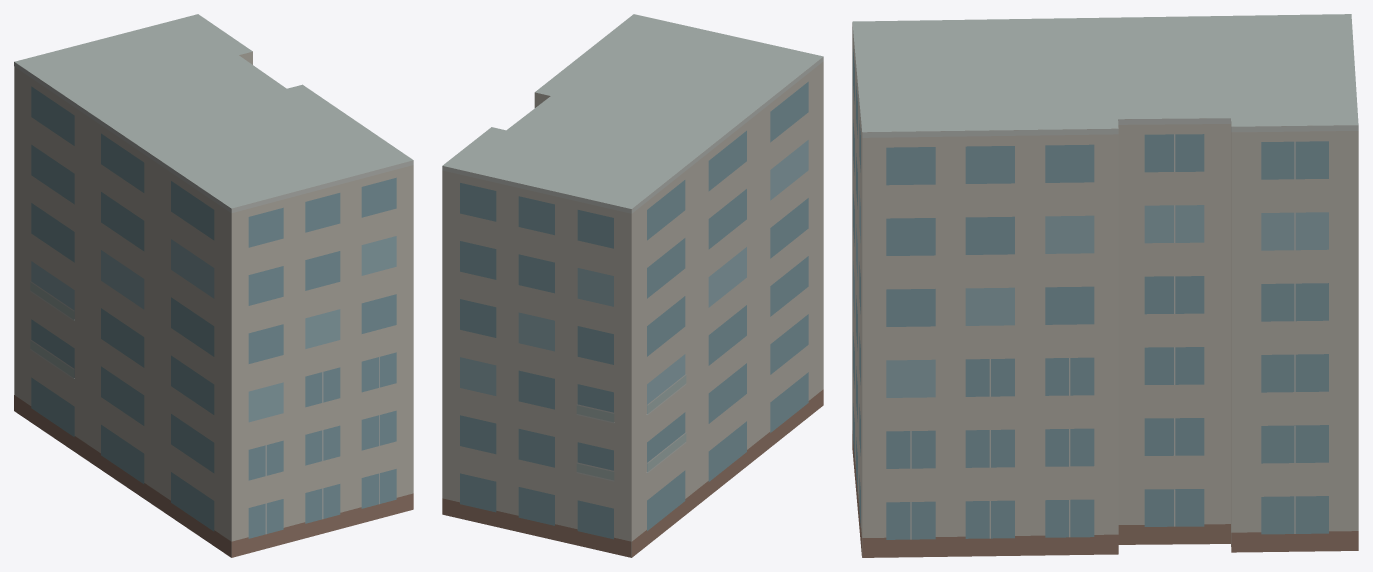
The model's file is survey-upis-32736217.glb.
3 views of the same model, side by side, from view 1: azimuth 30°, elevation 25°; view 2: azimuth 150°, elevation 25°; view 3: azimuth 270°, elevation 25° (orthographic). The views are drawn at different scales.
Parts seen in each view (by area): view 1: survey-upis-32736217.tmp; view 2: survey-upis-32736217.tmp; view 3: survey-upis-32736217.tmp.
Part boxes in pixels (box(x1,y1,x2,y2)): survey-upis-32736217.tmp: box(14, 14, 413, 557); survey-upis-32736217.tmp: box(442, 14, 823, 557); survey-upis-32736217.tmp: box(852, 14, 1358, 557).
Bounding box in the file's own units: 10.82 × 18.15 × 19.57.
